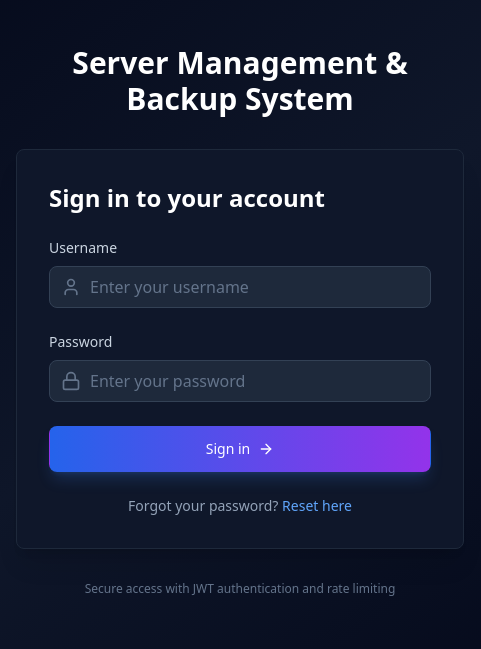
Test case: Login Component › handles network errors gracefully
In the field labelled "Username": {"x": 240, "y": 287} x1=49 y1=266 x2=431 y2=308, type "admin"
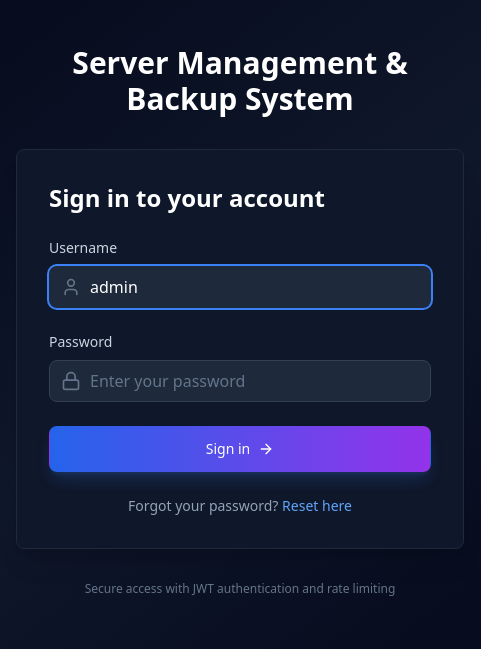
In the password field labelled "Password": {"x": 240, "y": 381} x1=49 y1=360 x2=431 y2=402, type "password123"
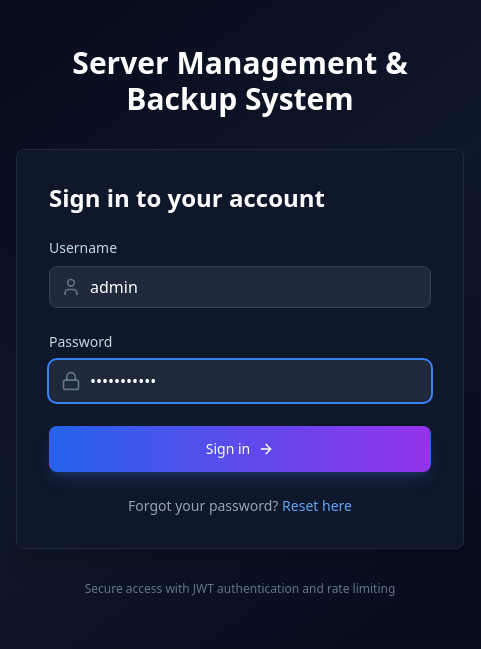
Click the button "Sign in": {"x": 240, "y": 449} x1=49 y1=426 x2=431 y2=472
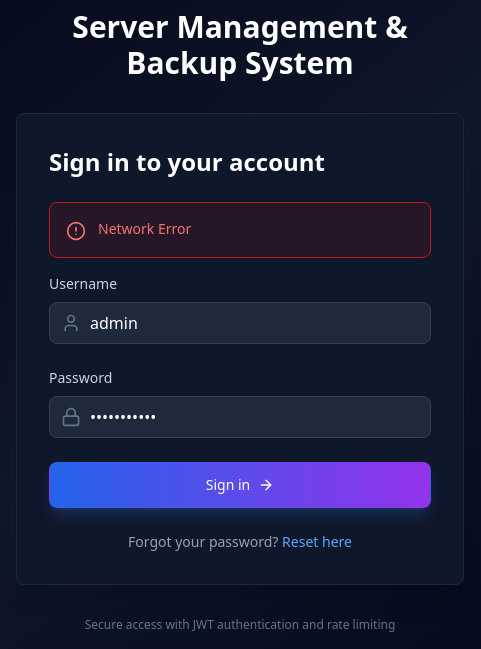
Check: the text "Network Error" is shown, box x1=98 y1=219 x2=191 y2=239
